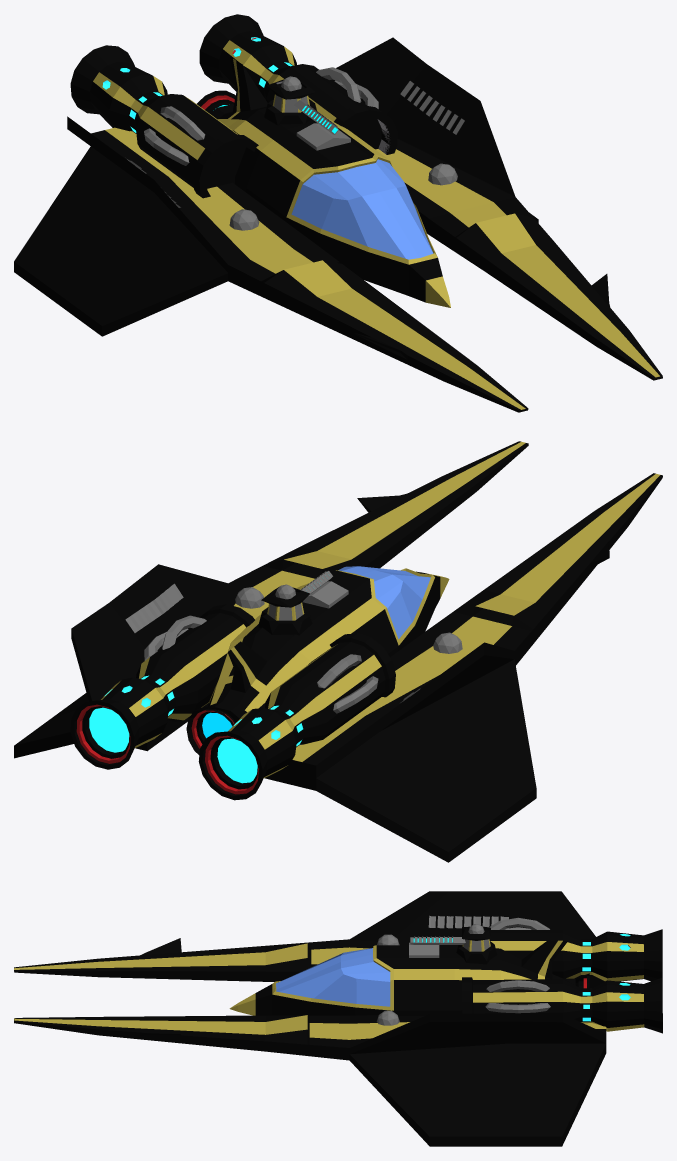
File: ship1.fbx
The picture shows the model from 3 angles, top to bottom: view 1: azimuth 30°, elevation 25°; view 2: azimuth 150°, elevation 25°; view 3: azimuth 270°, elevation 25°; orthographic projection. The views are drawn at different scales.
Parts seen in each view (by area): view 1: silnik srodek; view 2: silnik srodek; view 3: silnik srodek.
Part boxes in pixels (x1,y1,x2,y2): silnik srodek: (14, 14, 662, 412); silnik srodek: (14, 441, 662, 862); silnik srodek: (14, 891, 662, 1146).
Size of the model in its own units: 3861 by 1566 by 6509.
